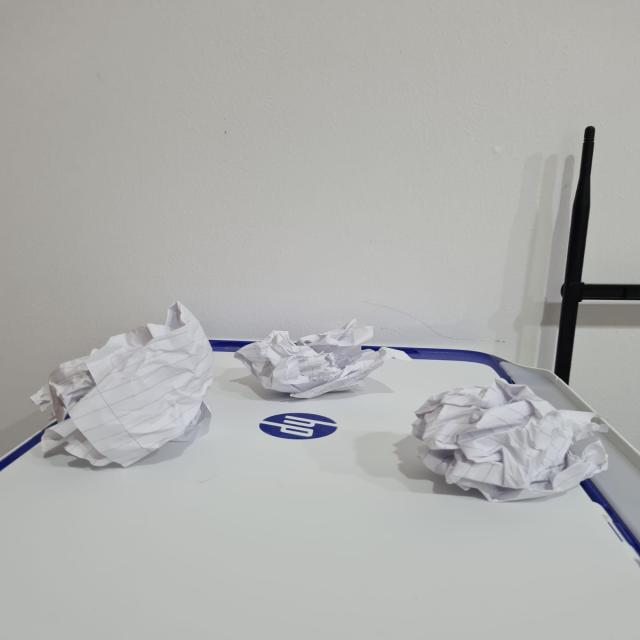Paper: (41, 299, 208, 463), (413, 381, 608, 498), (236, 321, 415, 394)
